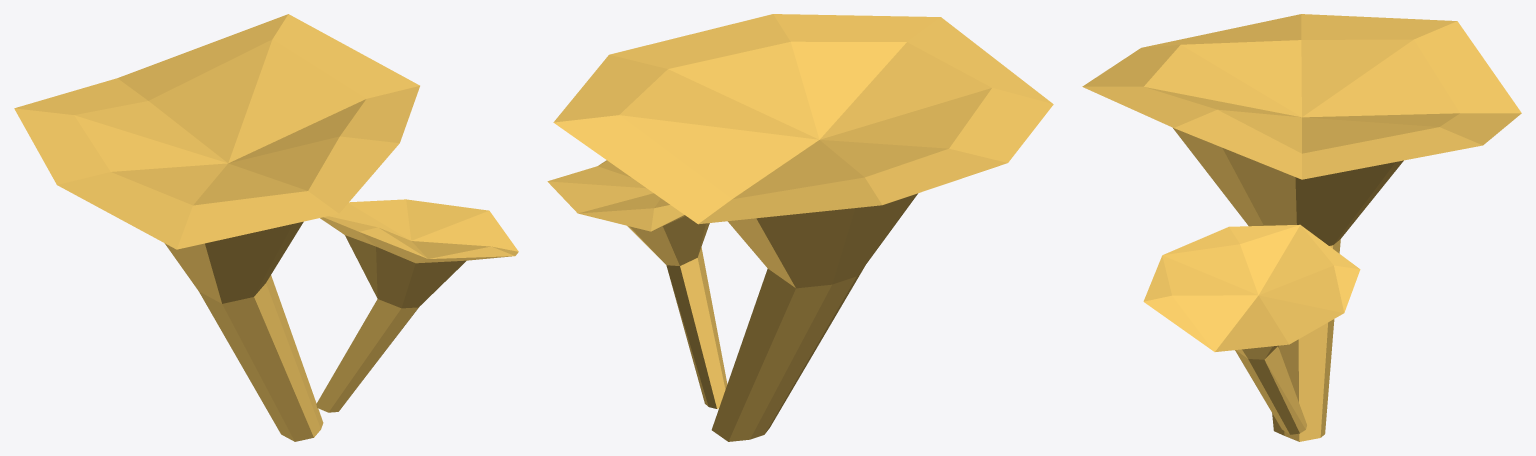
The model's file is Mushroom_j_03.fbx.
3 renders of one model, left to right at view 1: azimuth 30°, elevation 25°; view 2: azimuth 150°, elevation 25°; view 3: azimuth 270°, elevation 25°, orthographic. The views are drawn at different scales.
Visible parts, largest first — view 1: Mushroom_j_03; view 2: Mushroom_j_03; view 3: Mushroom_j_03.
Boxes of the visible parts, x1,y1,x2,y2 form: Mushroom_j_03: (14,14,518,441); Mushroom_j_03: (547,14,1053,441); Mushroom_j_03: (1082,14,1521,441).
Bounding box in the file's own units: 21.99 × 16.27 × 19.8.
